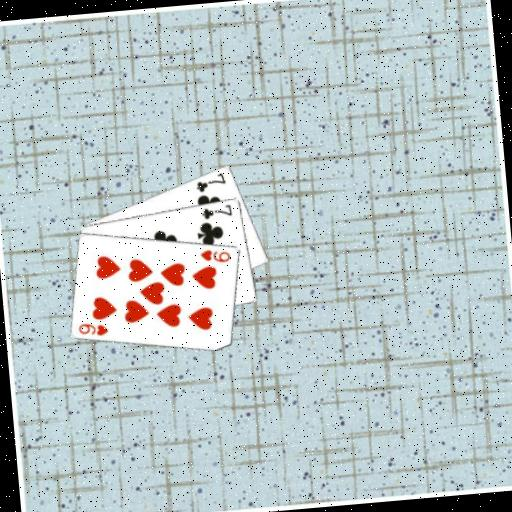7C: (193, 169, 229, 195), (199, 201, 234, 221)
9H: (198, 245, 233, 266), (75, 318, 110, 339)
